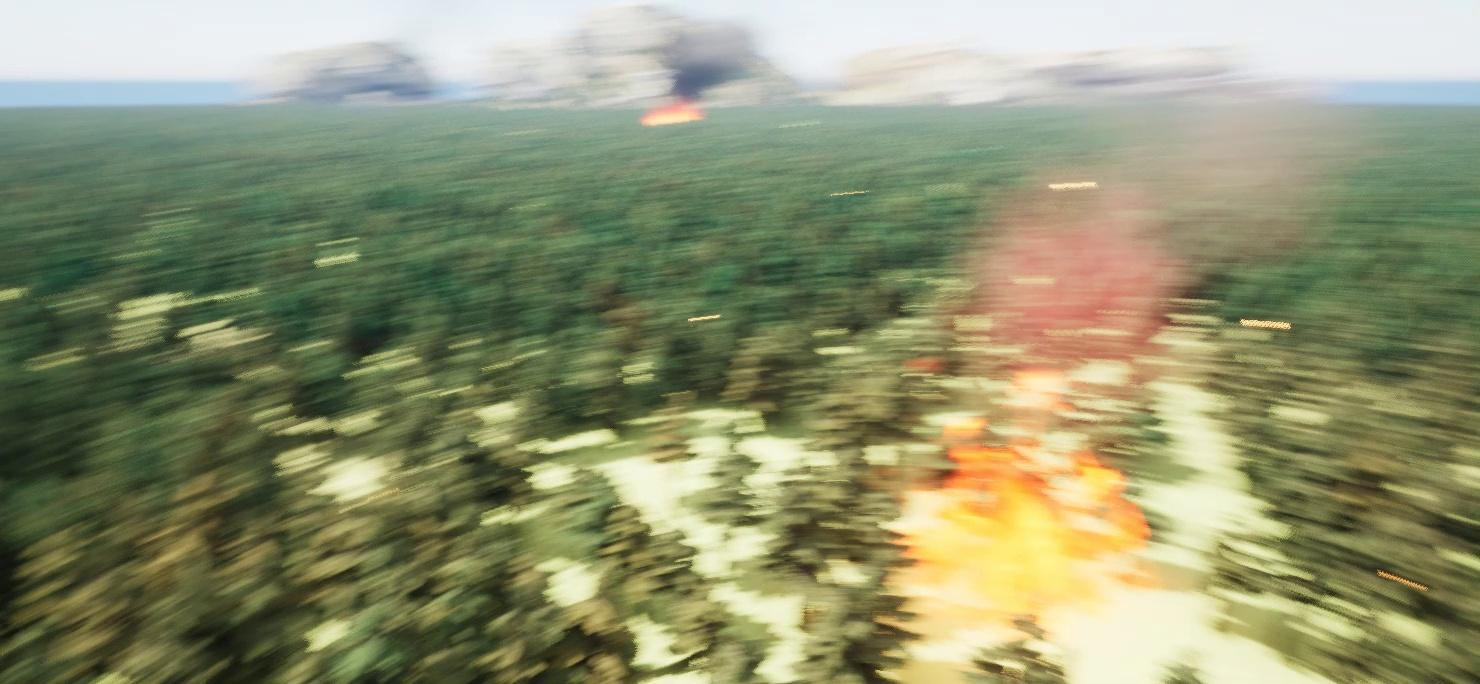fire: (871, 412, 1172, 670), (640, 104, 706, 129)
smoke: (956, 79, 1347, 385), (663, 32, 753, 100)
